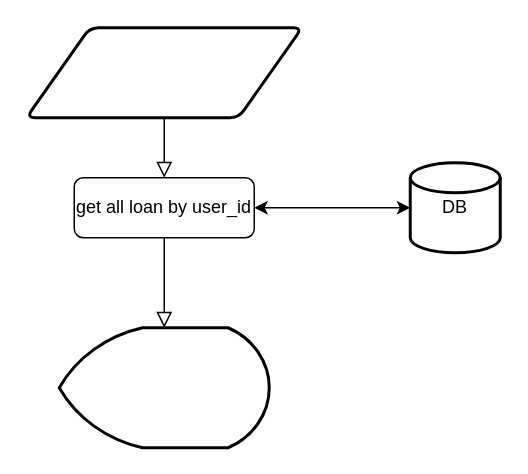
Image size: 528x474. Some labels were removed from this diagram. The centre of each missing label's shape, as x and y in pixels:
JSON Parameter user_id: point (163, 72)
remaining_loan, remaining_term, installment_amount: point (163, 387)
